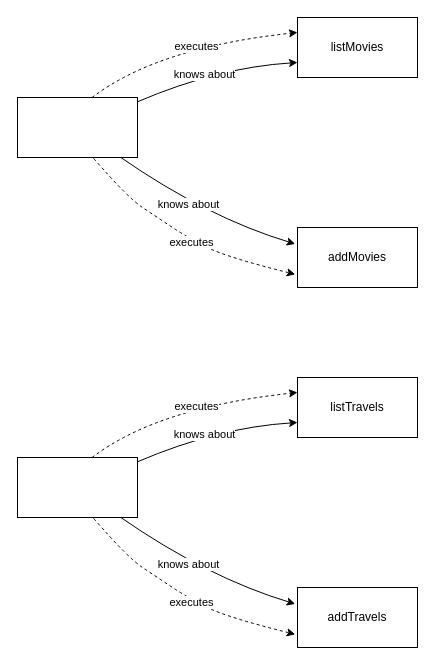
Some shapes in this 435 by 665 pixel diagram are drawn without their labels. The shapes that lost their labels are listed below. From the top down, each one's centre as x and y in pixels, then its label:
At point 77,127: "menuMovies".
At point 77,487: "menuTravels".
